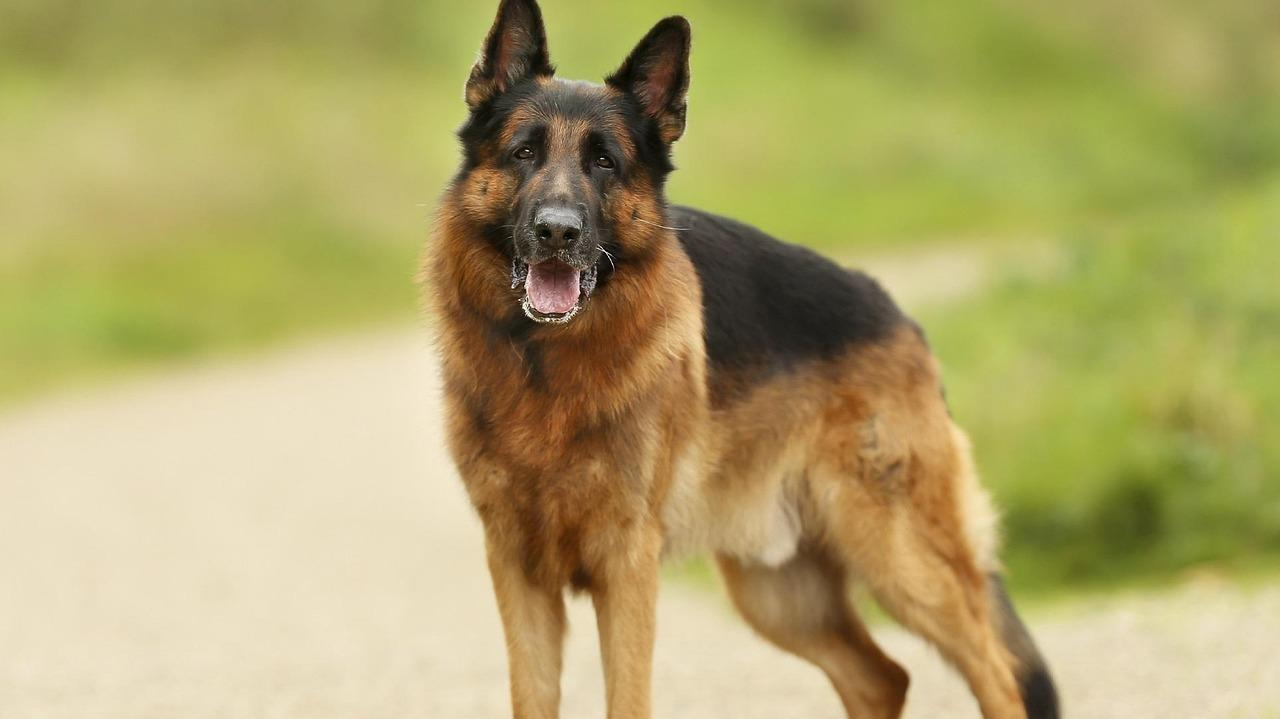german_shepherd: (423, 19, 701, 350)
